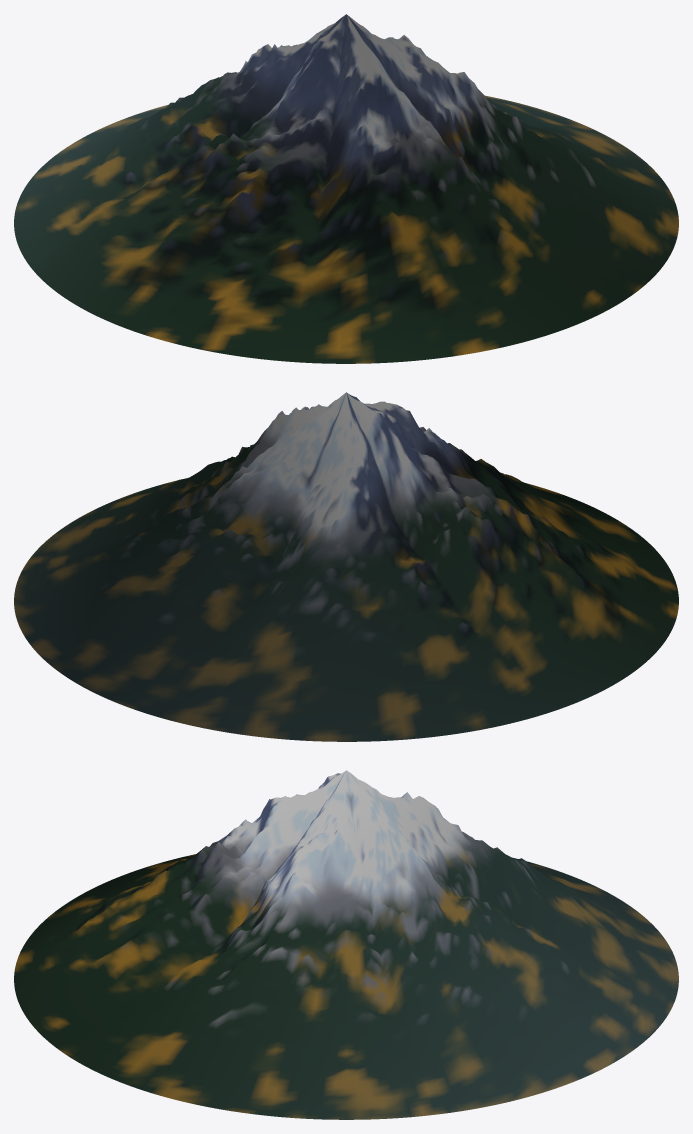
3 views of the same model, one above another, from view 1: azimuth 30°, elevation 25°; view 2: azimuth 150°, elevation 25°; view 3: azimuth 270°, elevation 25° (orthographic).
Parts seen in each view (by area): view 1: L4_3_Peak7; view 2: L4_3_Peak7; view 3: L4_3_Peak7.
Part boxes in pixels (x1=…): L4_3_Peak7: x1=14, y1=14, x2=678, y2=363; L4_3_Peak7: x1=14, y1=392, x2=678, y2=741; L4_3_Peak7: x1=14, y1=770, x2=678, y2=1119.
Size of the model in its own units: 1440 by 500 by 1440.
